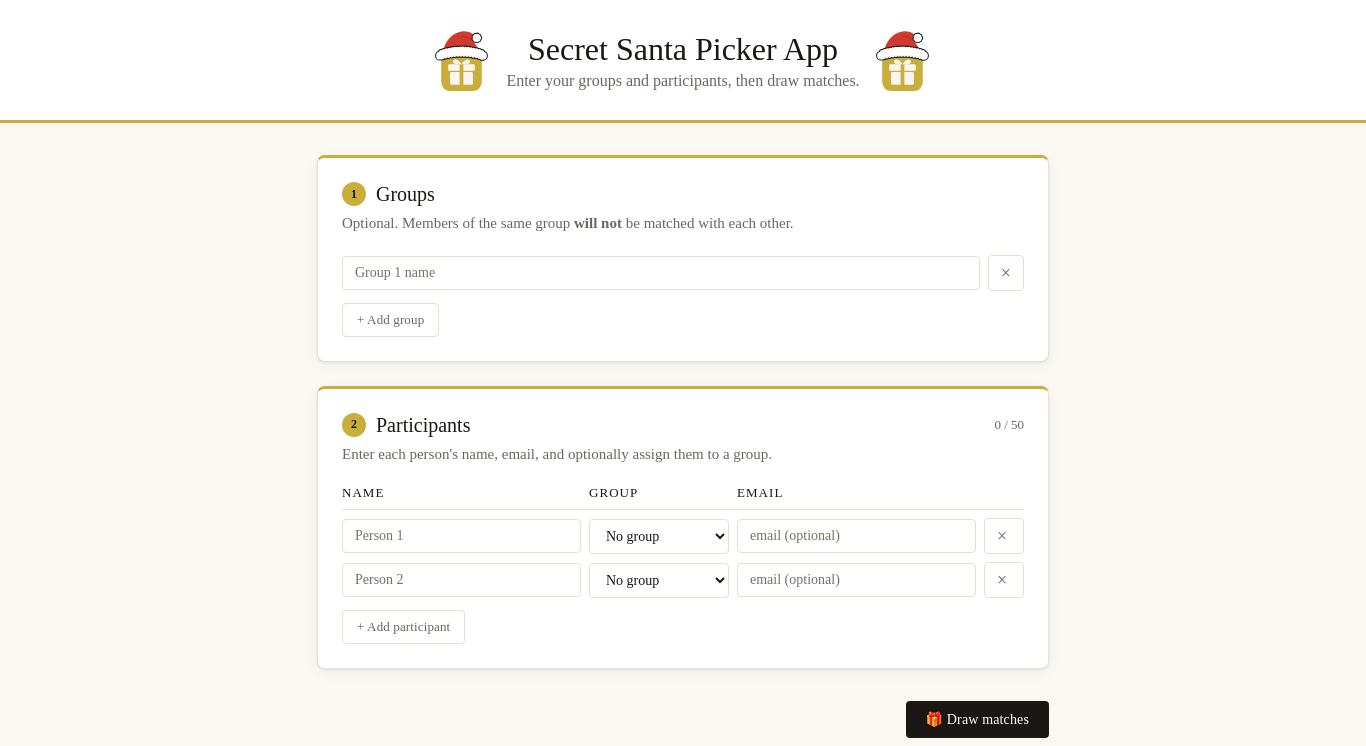
Test: home form › saving the form as it is typed › shows Clear form only once a third row has been added
The width and height of the screenshot is (1366, 746).
Check: the button "Clear form" is not shown
Step 1. Type "Smiths" into the field labelled "Group 1 name" → (661, 272), box x1=342 y1=256 x2=980 y2=290
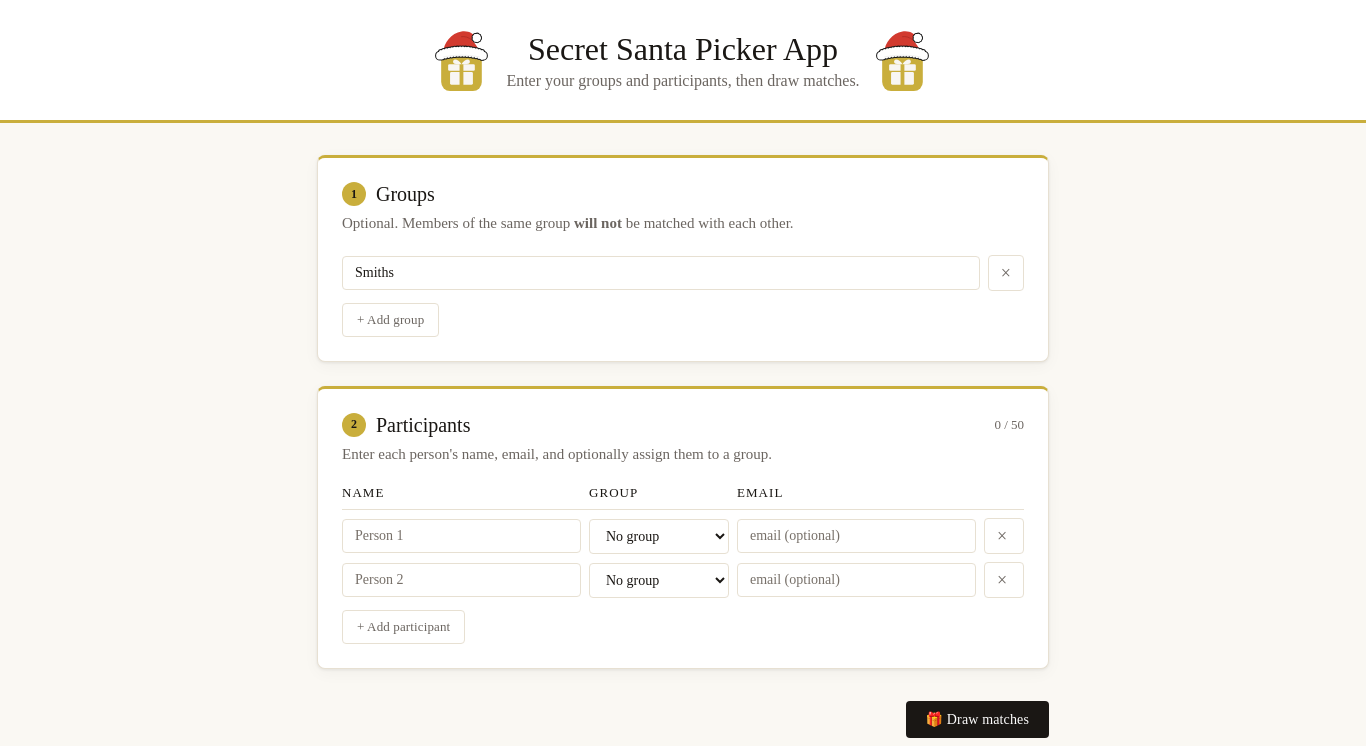
Step 2. Type "Ann" into the field named "Person 1 name" → (462, 536), box x1=342 y1=519 x2=581 y2=553
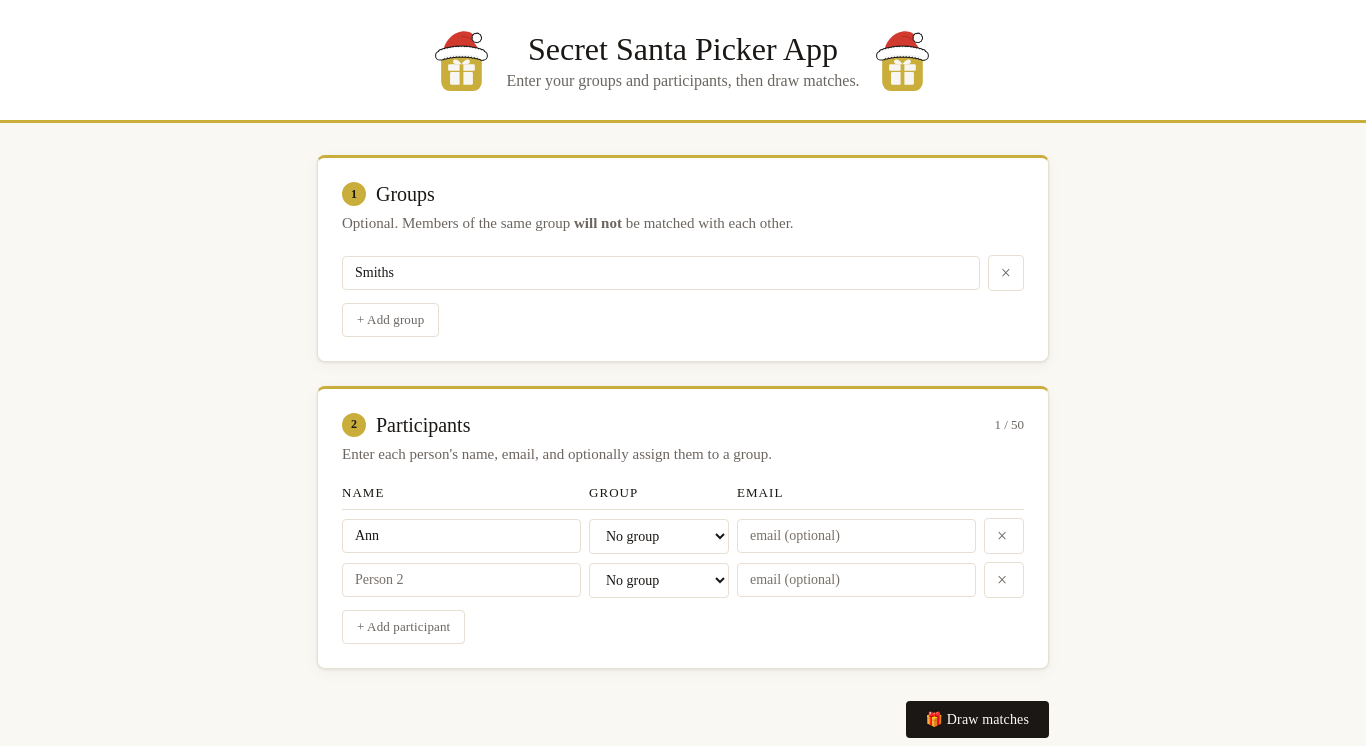
Step 3. Type "ann@example.com" into the field named "Person 1 email" → (856, 536), box x1=737 y1=519 x2=976 y2=553
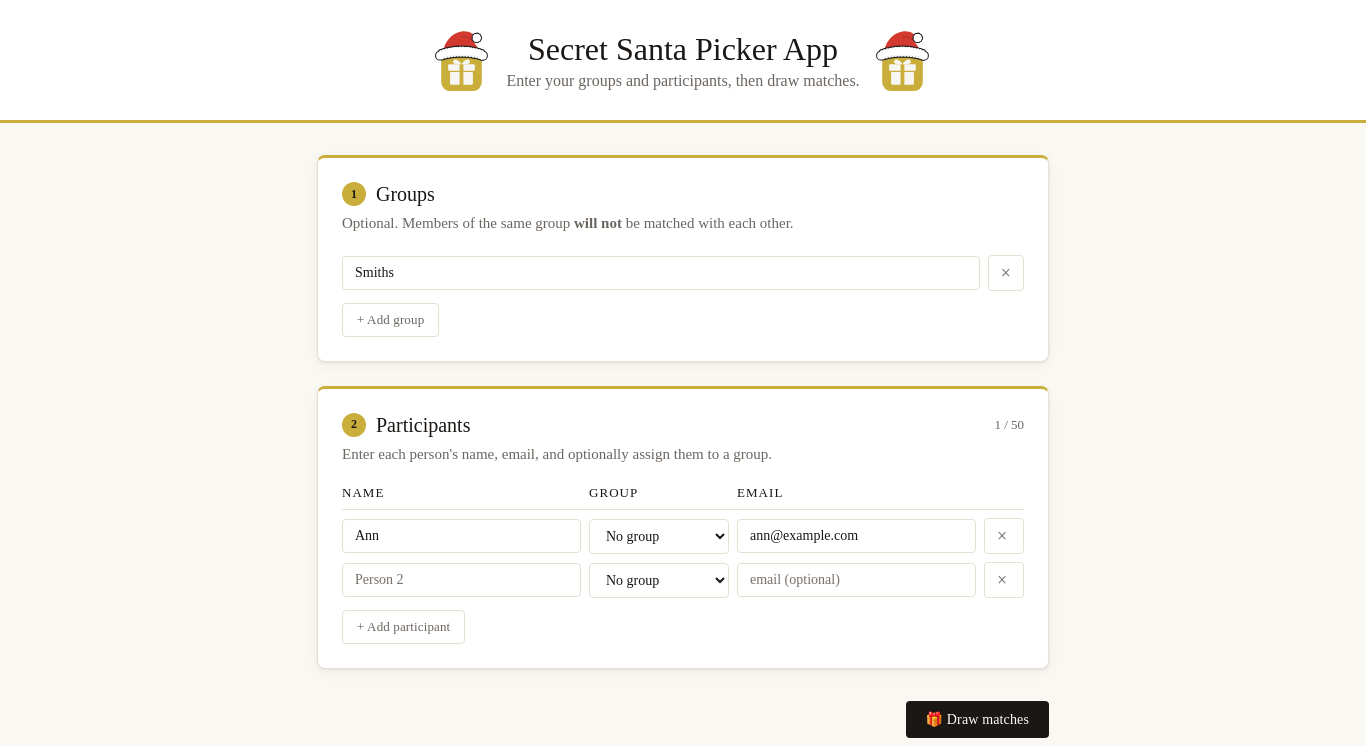
Step 4. Type "Bob" into the field named "Person 2 name" → (462, 580), box x1=342 y1=563 x2=581 y2=597
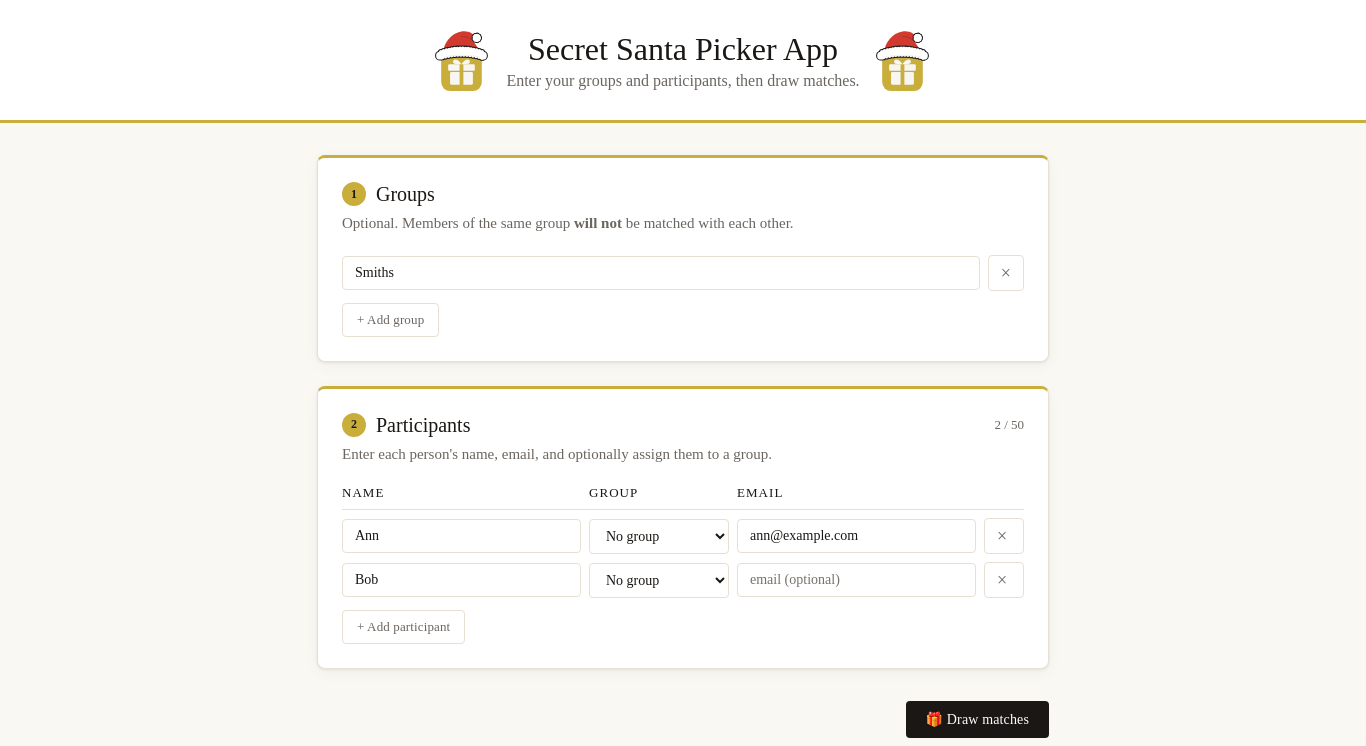
Check: the button "Clear form" is not shown
Step 5. Click the button "+ Add participant" → click(404, 627), box x1=342 y1=610 x2=465 y2=644
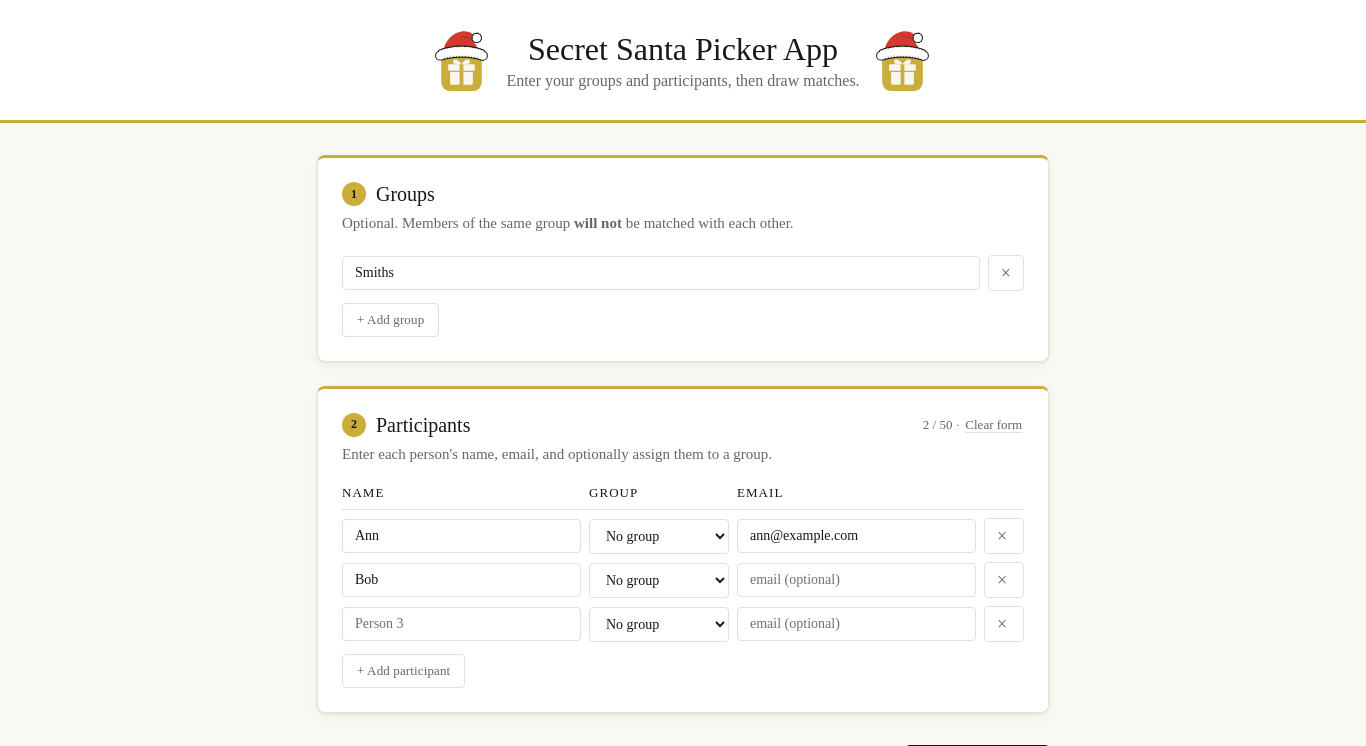
Check: the button "Clear form" is shown, box x1=963 y1=413 x2=1024 y2=436
Step 6. Click the button named "Remove person 3" → click(1004, 624), box x1=984 y1=606 x2=1024 y2=642
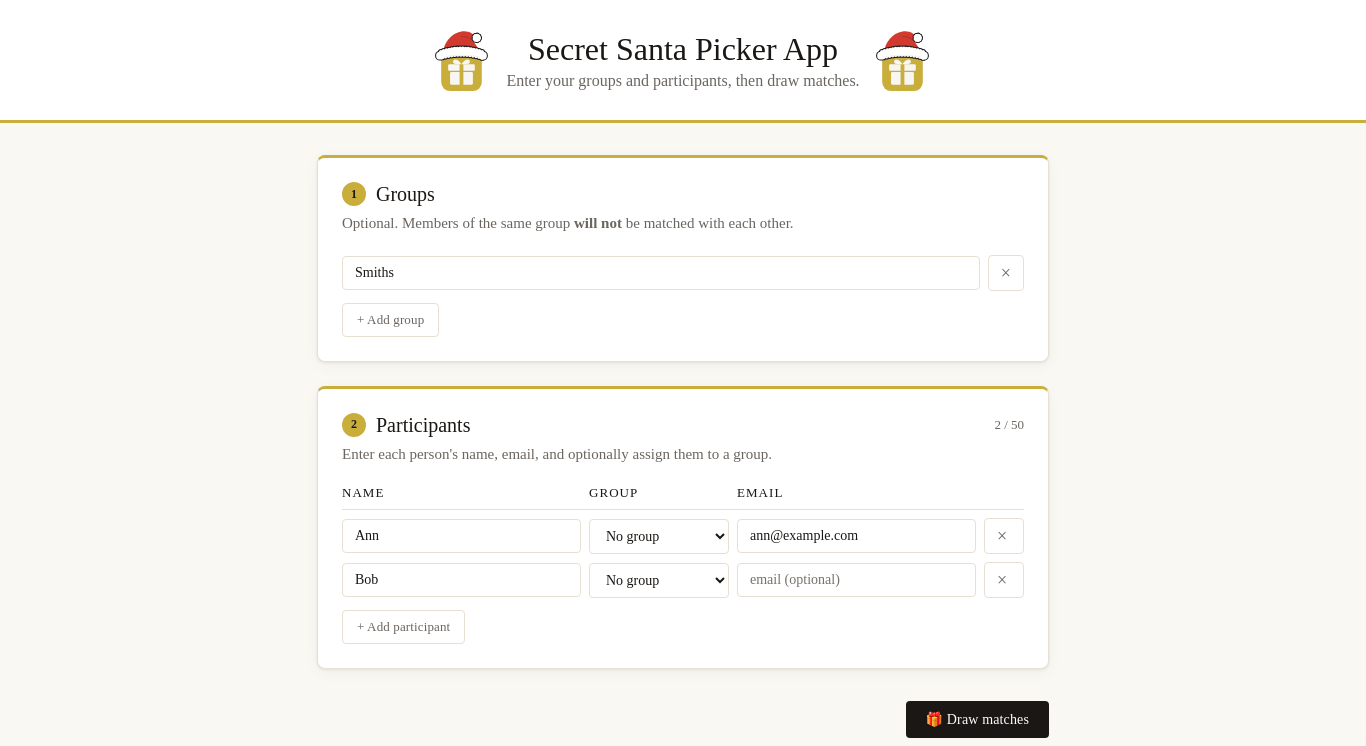
Check: the button "Clear form" is gone
